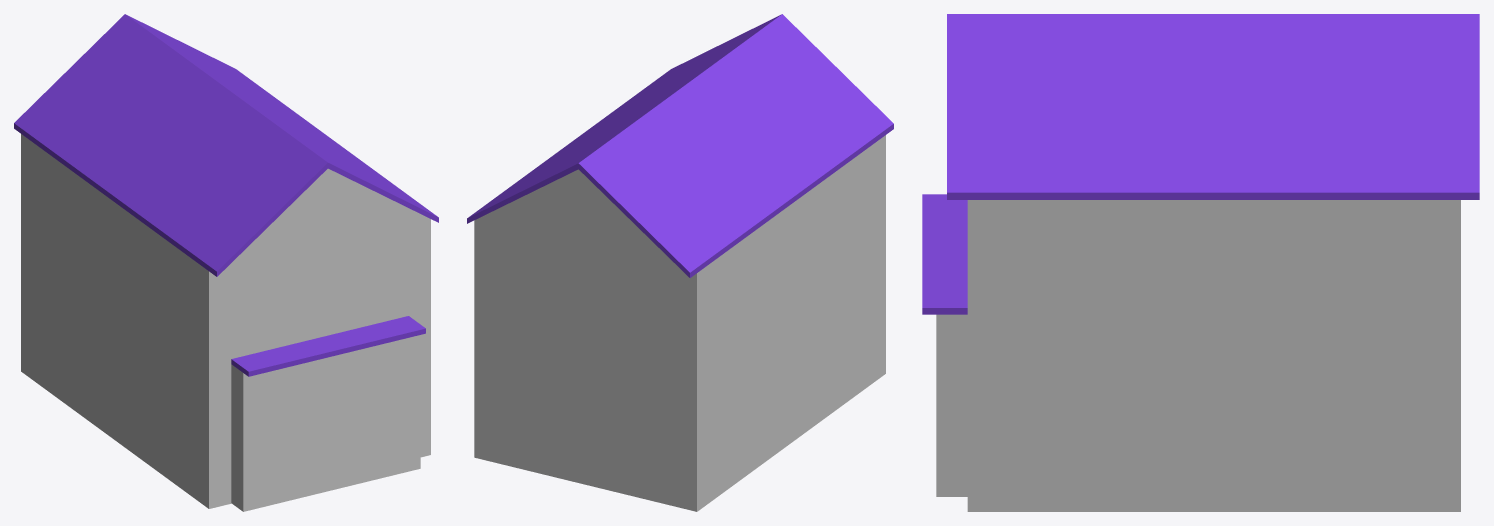
Rendered from house1.fbx.
3 views of the same model, side by side, from view 1: azimuth 30°, elevation 25°; view 2: azimuth 150°, elevation 25°; view 3: azimuth 270°, elevation 25° (orthographic). The views are drawn at different scales.
Visible parts, largest first — view 1: Cube; view 2: Cube; view 3: Cube.
Boxes of the visible parts, bbox=[...] form: Cube: bbox=[14, 14, 438, 511]; Cube: bbox=[467, 14, 893, 511]; Cube: bbox=[922, 14, 1479, 511].
Size of the model in its own units: 200 by 280 by 331.
